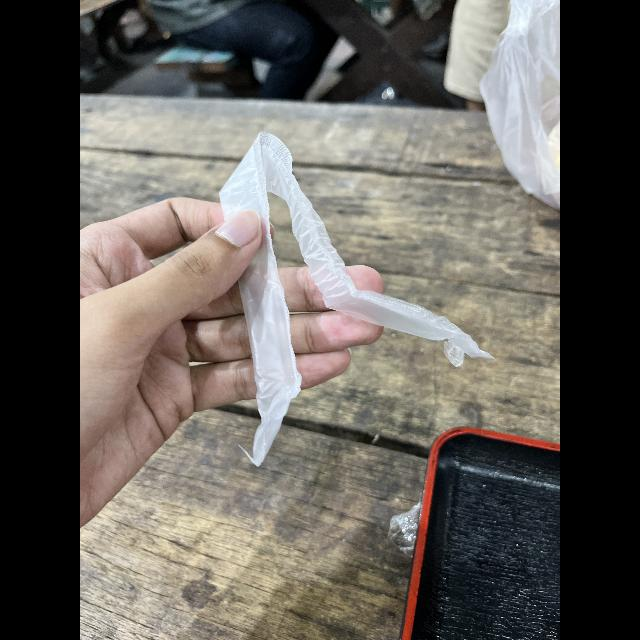scrap_plastic: (205, 129, 498, 467)
